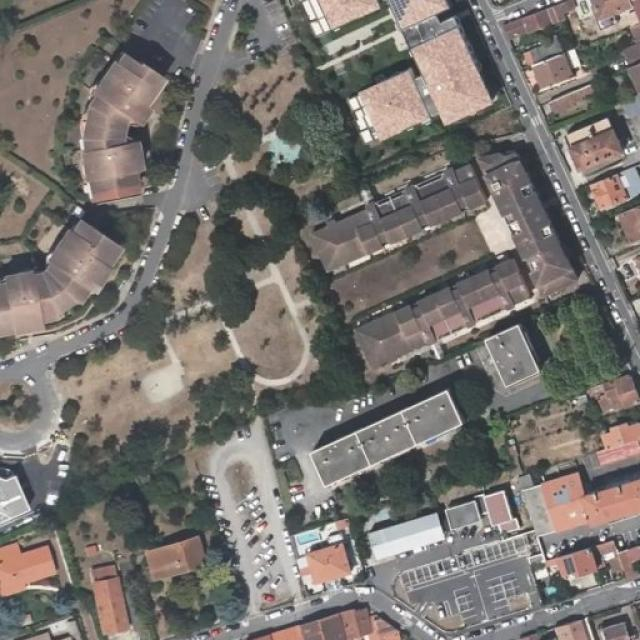immeuble: (348, 261, 564, 364), (345, 0, 501, 139), (309, 153, 496, 263), (2, 206, 123, 342), (306, 390, 467, 486), (79, 48, 160, 194), (511, 133, 582, 284), (515, 465, 640, 537), (481, 324, 541, 386), (566, 118, 624, 168), (296, 0, 386, 20)
maison: (548, 542, 640, 638), (258, 606, 394, 640), (514, 37, 588, 97), (0, 530, 62, 600), (86, 556, 134, 637), (138, 533, 212, 580), (582, 366, 640, 414), (588, 417, 640, 468), (306, 540, 350, 585), (511, 0, 577, 21)
piscine: (263, 130, 305, 172), (286, 524, 322, 548)
usine: (361, 509, 443, 566)
